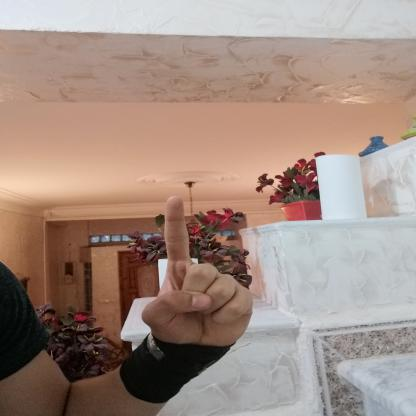BAA: (133, 186, 269, 354)
